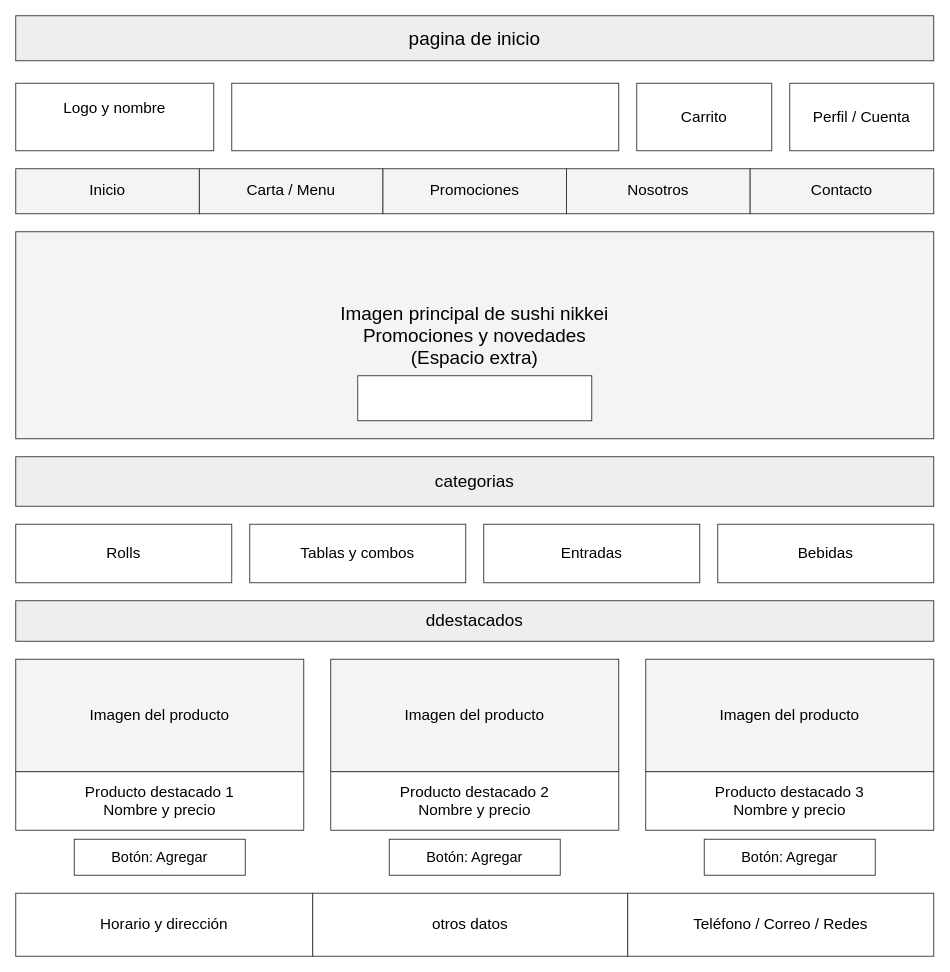
The diagram is 950 pixels wide and 972 high, and some of its shapes have lost their labels. The box of each missing label's shape, as (x1, y1, x2, y2) in pixels:
Botón: Ver carta: (357, 375, 592, 421)
Buscar en la carta: (231, 82, 619, 151)
